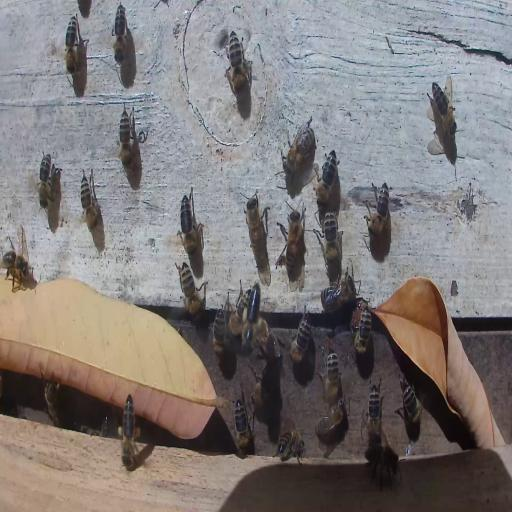bee: (281, 119, 316, 173), (117, 393, 141, 470), (366, 441, 402, 492), (429, 78, 458, 137), (176, 260, 206, 317), (365, 180, 391, 241), (226, 30, 250, 96), (318, 269, 354, 312), (178, 188, 200, 257), (256, 312, 282, 368), (242, 281, 262, 353), (399, 378, 422, 440), (284, 208, 304, 278), (79, 167, 100, 233), (289, 304, 312, 364), (314, 150, 338, 206), (250, 359, 276, 410), (246, 194, 266, 260), (318, 211, 340, 270), (350, 300, 373, 354), (2, 250, 33, 290), (316, 400, 346, 440), (319, 345, 340, 402), (233, 398, 251, 458), (38, 150, 55, 212), (276, 428, 306, 463), (118, 107, 134, 171), (212, 305, 228, 368), (112, 3, 128, 61), (64, 14, 78, 76), (44, 378, 60, 424), (230, 289, 244, 339), (368, 381, 380, 426)
